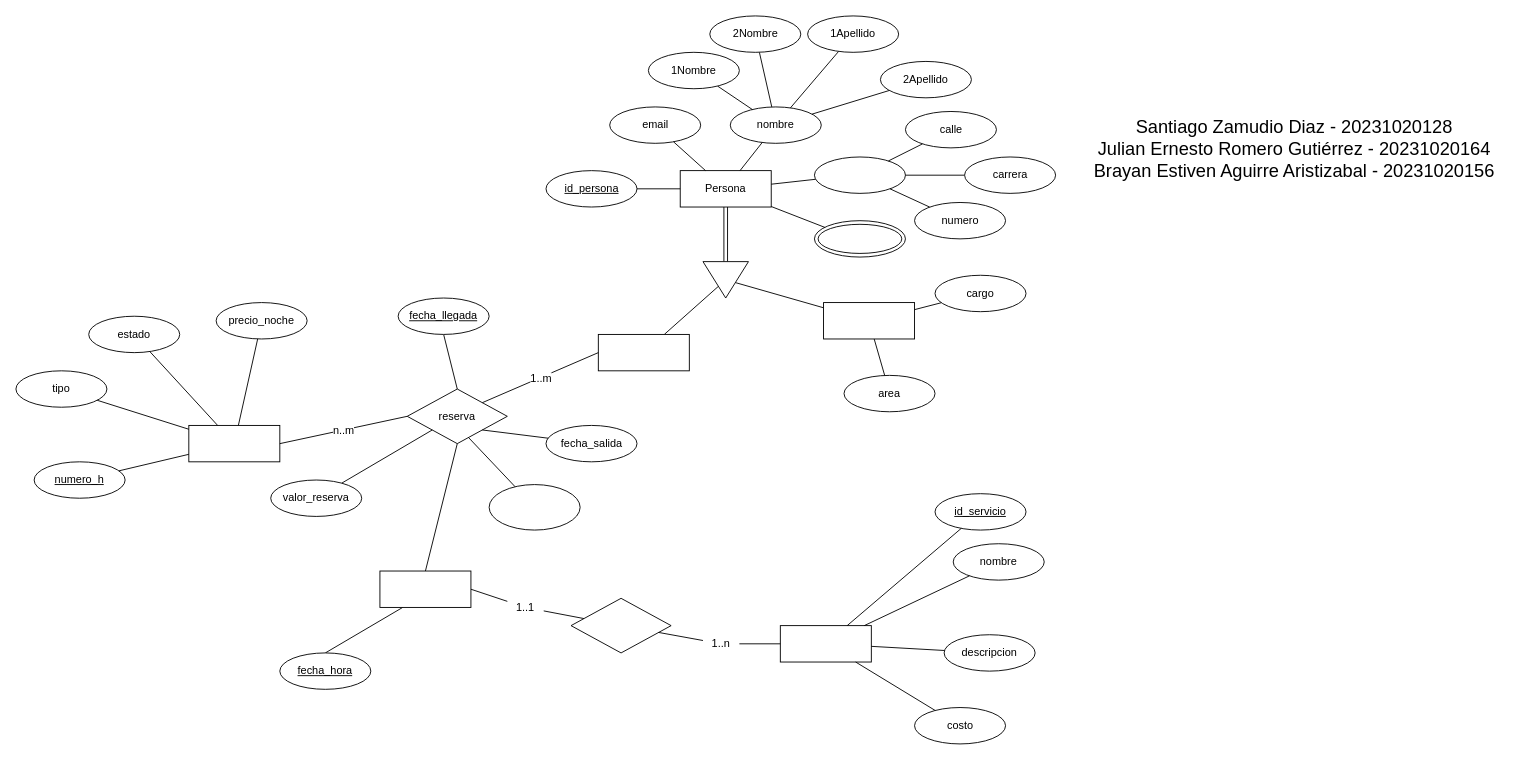
This 1515x760 diagram has some shape labels left out. Each missing label, with the box of its shape:
Cliente: (597, 334, 689, 371)
Consumo: (379, 570, 471, 607)
direccion: (814, 156, 905, 193)
Empleado: (823, 302, 915, 339)
Habitacion: (188, 425, 280, 462)
ofrece: (570, 597, 671, 653)
Servicio: (779, 625, 871, 662)
telefono: (814, 220, 905, 257)
tiempo_maxC: (488, 484, 580, 530)
